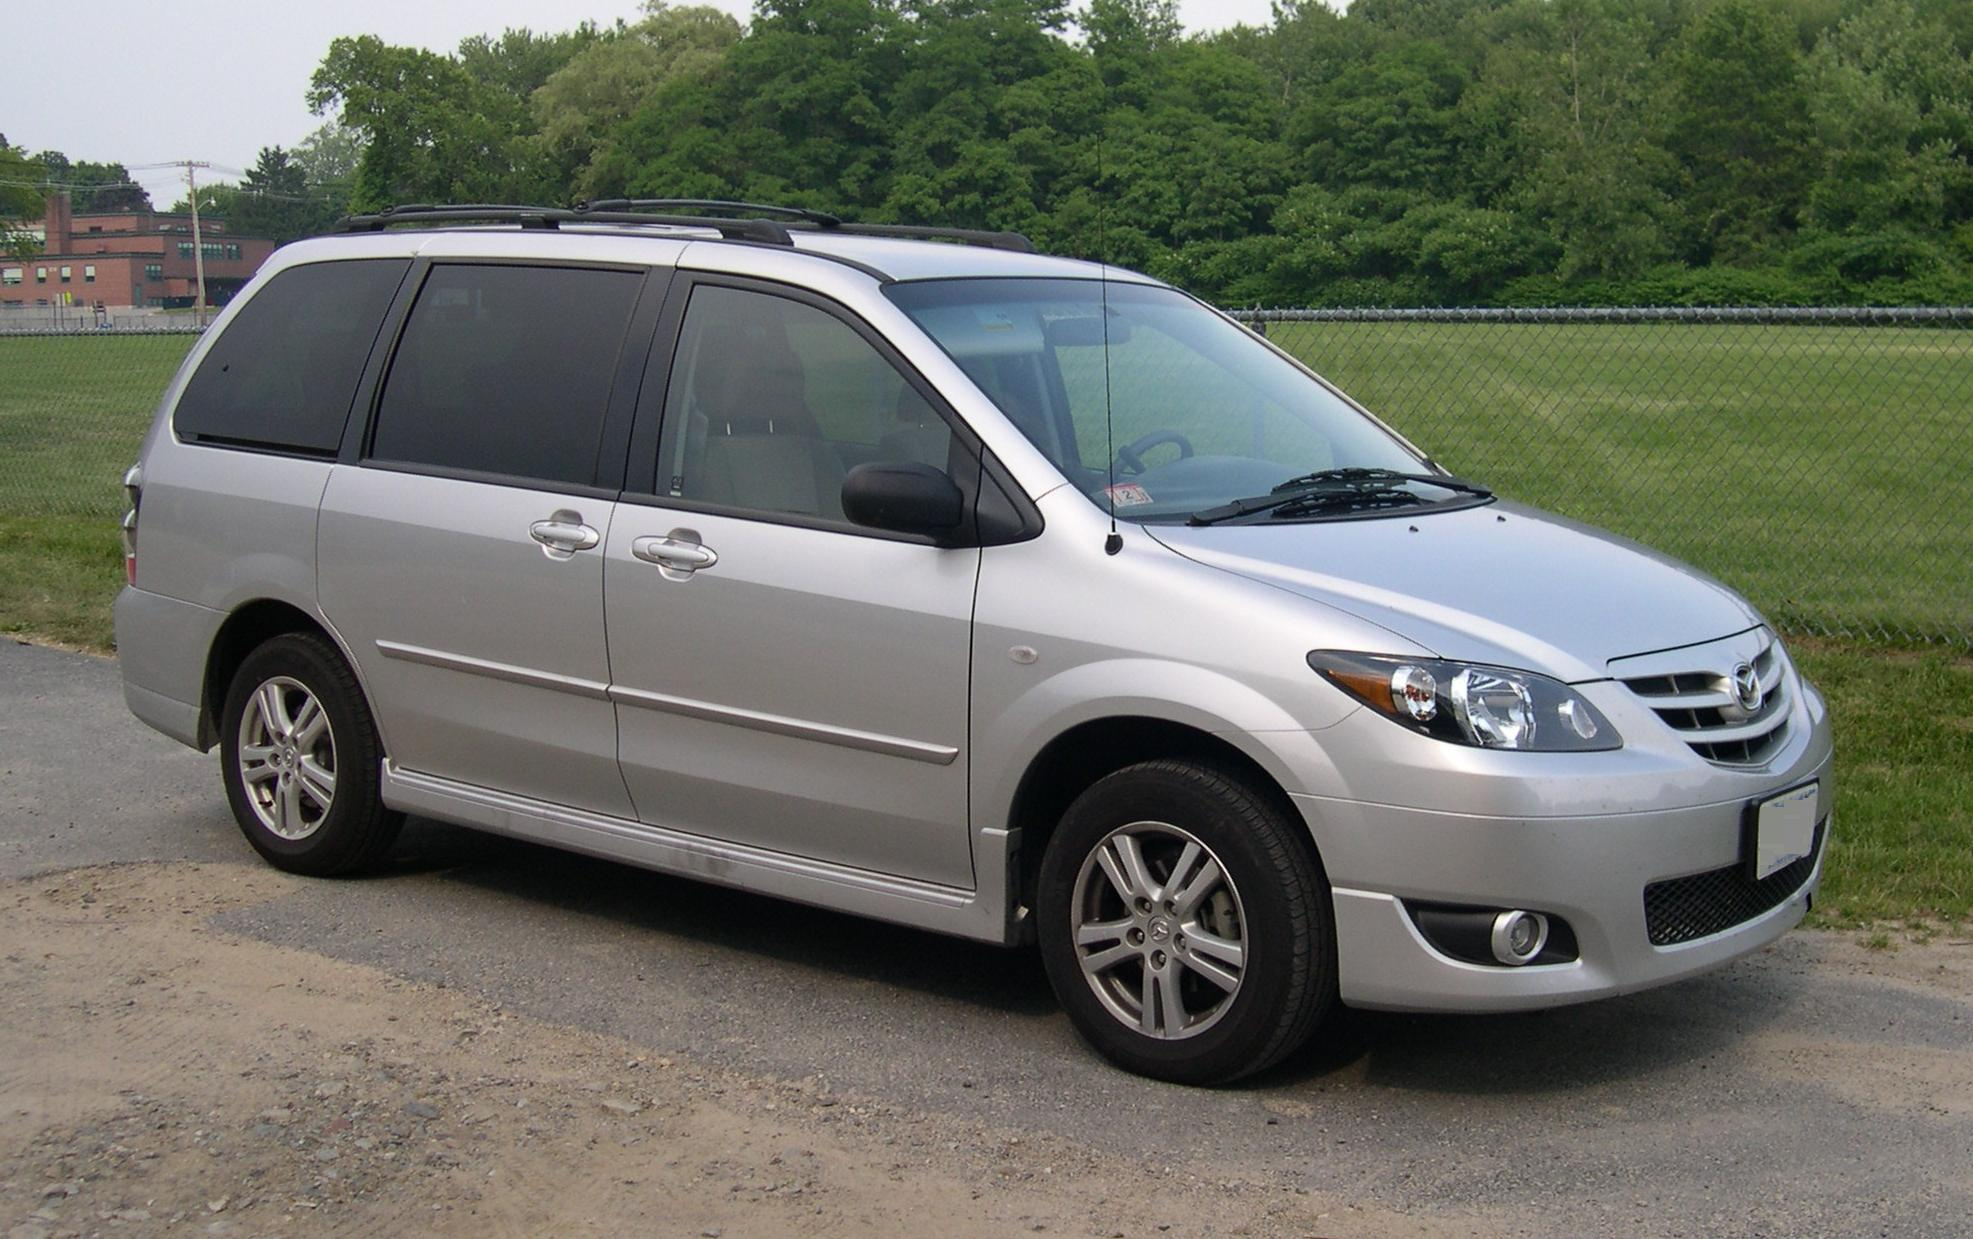car: (113, 196, 1832, 1093)
